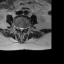CCS_normal: (20, 25, 22, 35)
LFS_stenosis: (24, 25, 26, 31)
LLS_normal: (22, 25, 24, 32)
RFS_normal: (16, 25, 18, 31)
RLS_normal: (18, 25, 20, 31)
